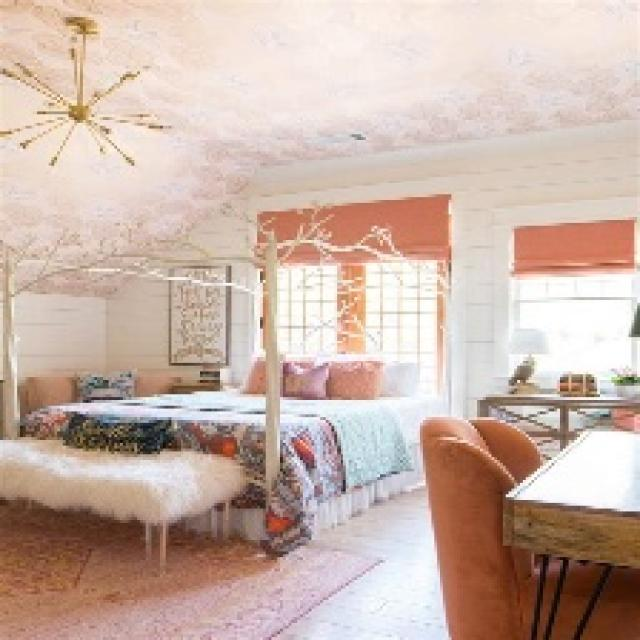Bed: (17, 366, 443, 551)
